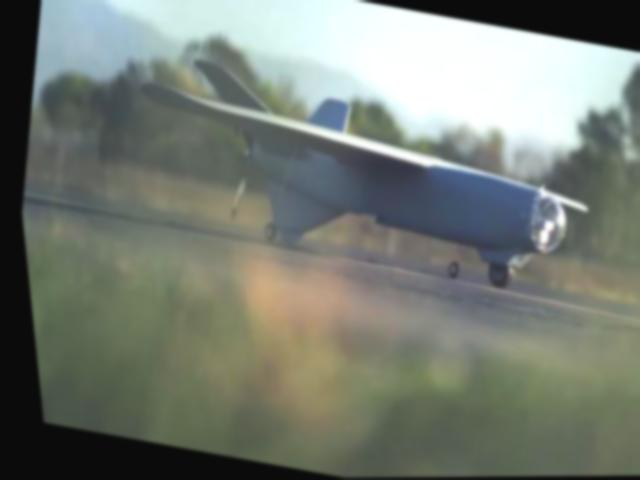iha: (103, 36, 612, 301)
